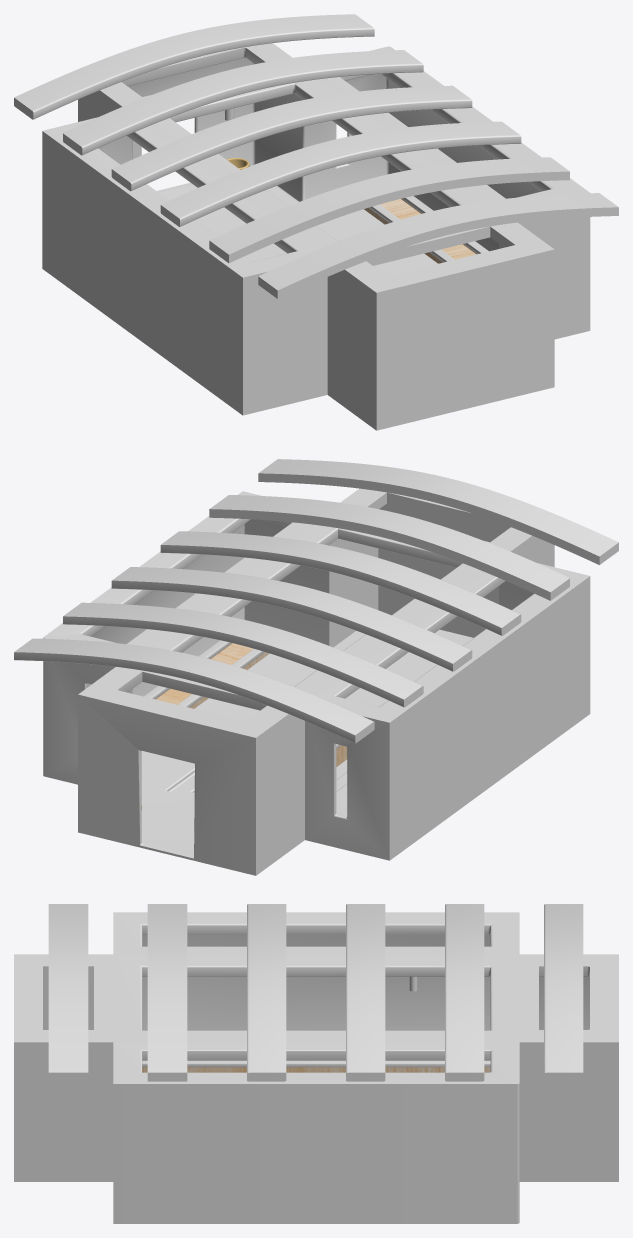
The model's file is Atrium.fbx.
3 views of the same model, one above another, from view 1: azimuth 30°, elevation 25°; view 2: azimuth 150°, elevation 25°; view 3: azimuth 270°, elevation 25° (orthographic).
Visible parts, largest first — view 1: Structure, Arches, Planter Right; view 2: Structure, Arches, Planter Right; view 3: Structure, Arches, Planter Left.
Boxes of the visible parts, box(x1,y1,x2,y2) form: Structure: box(42, 43, 590, 430); Arches: box(14, 14, 618, 298); Planter Right: box(364, 196, 488, 263); Structure: box(43, 488, 590, 875); Arches: box(14, 459, 618, 743); Planter Right: box(143, 640, 269, 708); Structure: box(14, 912, 618, 1223); Arches: box(48, 904, 583, 1081); Planter Left: box(142, 1060, 490, 1072).
Size of the model in its own units: 1674 by 824 by 2491.
